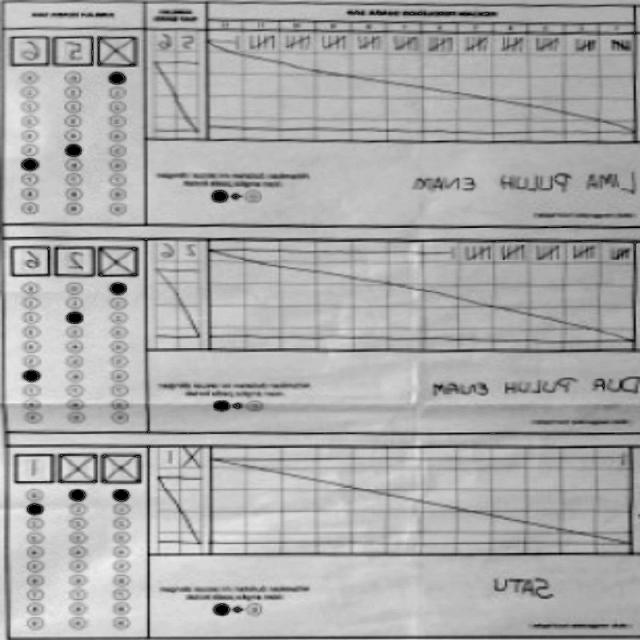Suara: (7, 32, 142, 70), (10, 449, 146, 486), (8, 242, 142, 279)
